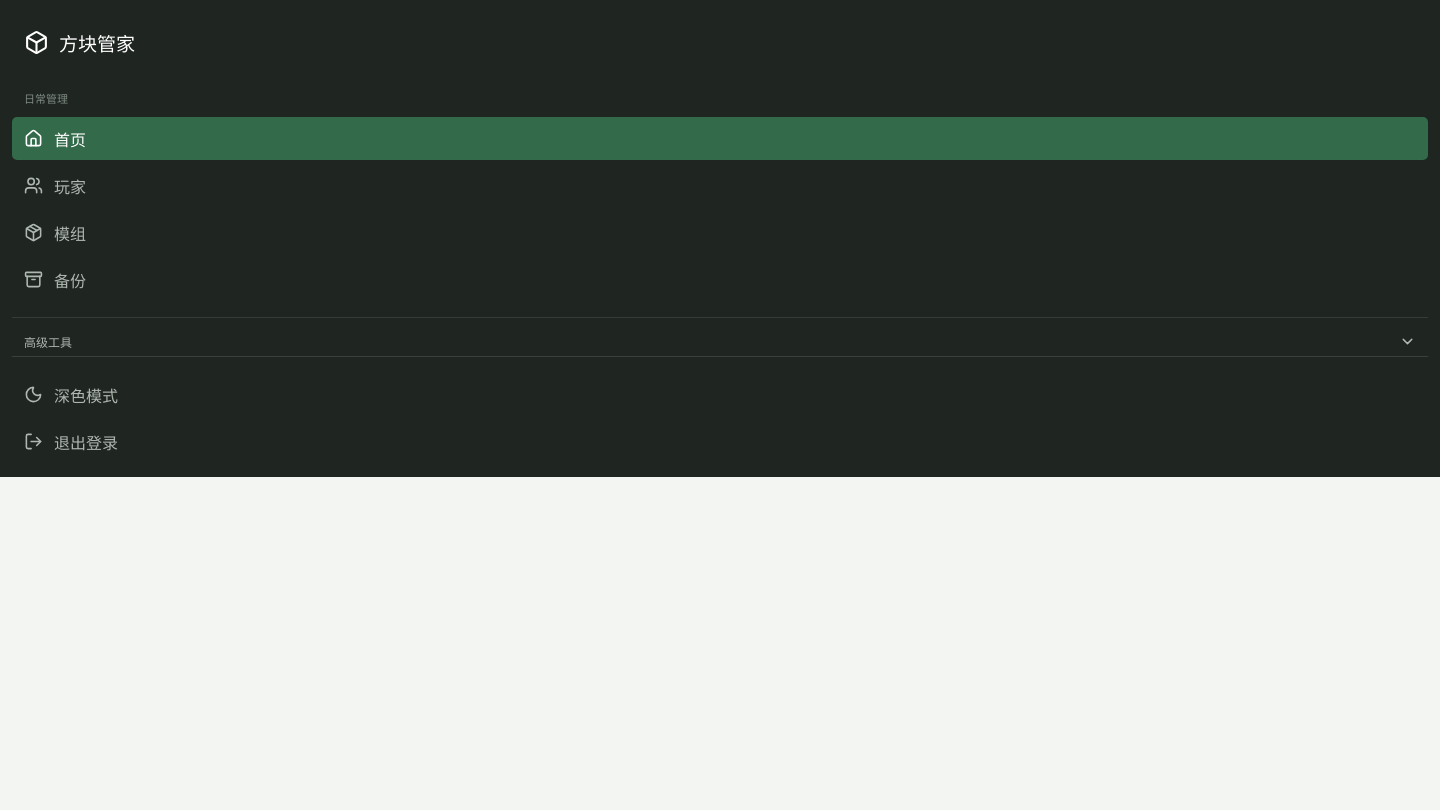
Scenario: Sidebar › keeps professional tools collapsed until the user asks for them
This screenshot has width=1440, height=810.
Check: the button "设置" is not shown
Click the button "高级工具" at (48,342), box [12,317,1428,356]
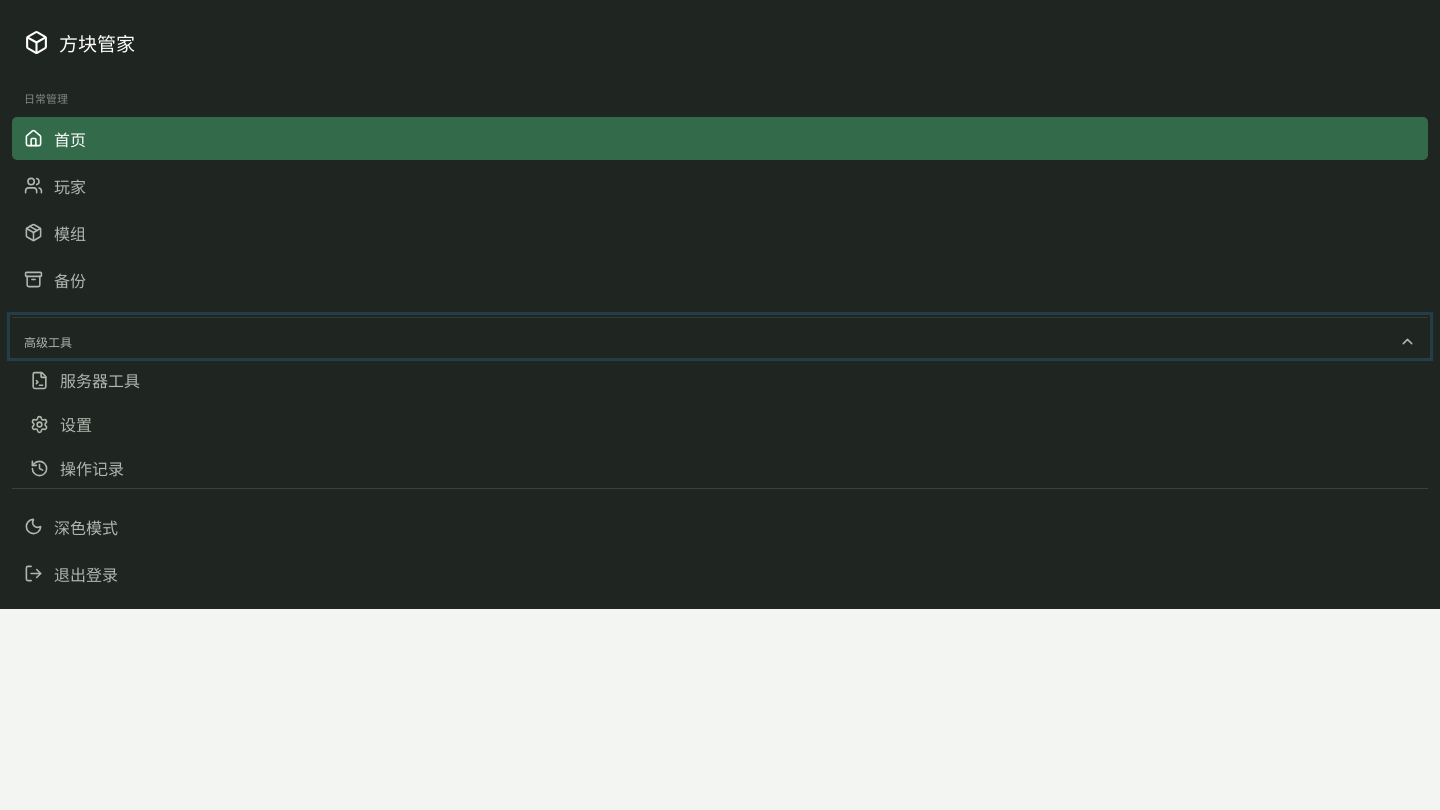
Check: the button "设置" is shown, box [12,404,1428,444]
